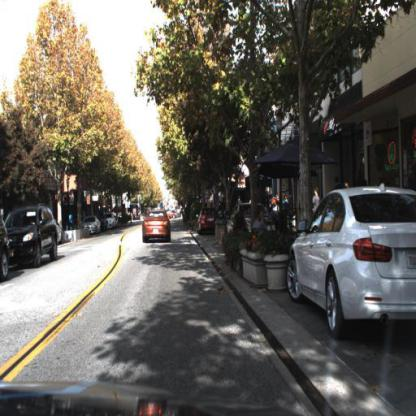car: (286, 176, 416, 340), (4, 202, 61, 273), (141, 209, 173, 247), (196, 208, 220, 237), (57, 222, 65, 246)
pedestrian: (252, 212, 264, 232), (254, 215, 265, 236), (283, 189, 292, 208), (68, 212, 77, 230), (258, 208, 268, 223), (334, 176, 343, 192), (272, 195, 280, 212), (282, 194, 291, 209), (68, 214, 76, 230)
